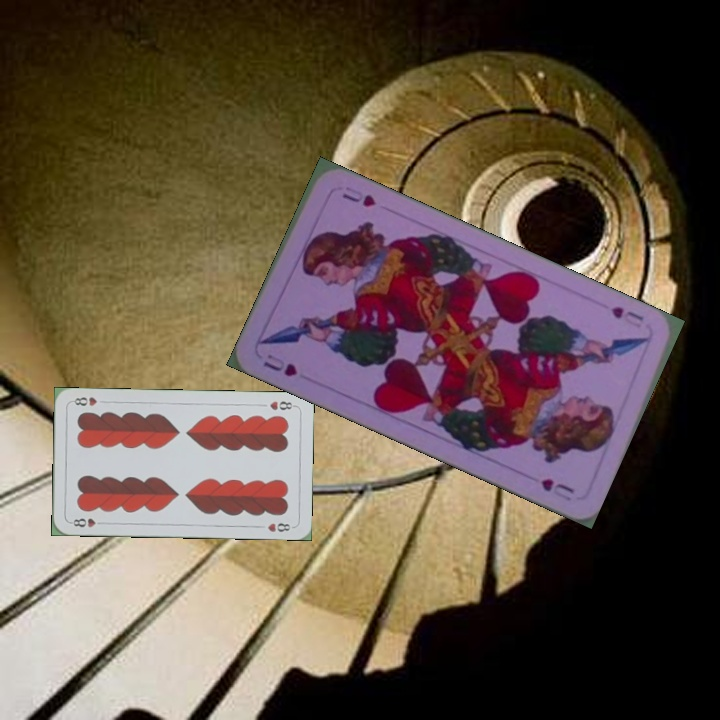H8: (66, 514, 107, 530), (266, 397, 298, 413)
HU: (606, 302, 647, 331), (259, 357, 300, 380)
